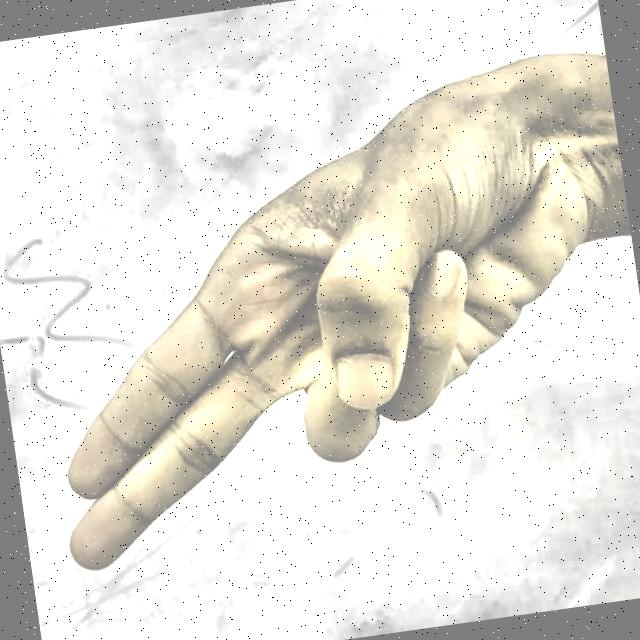Ha: (0, 36, 622, 624)
